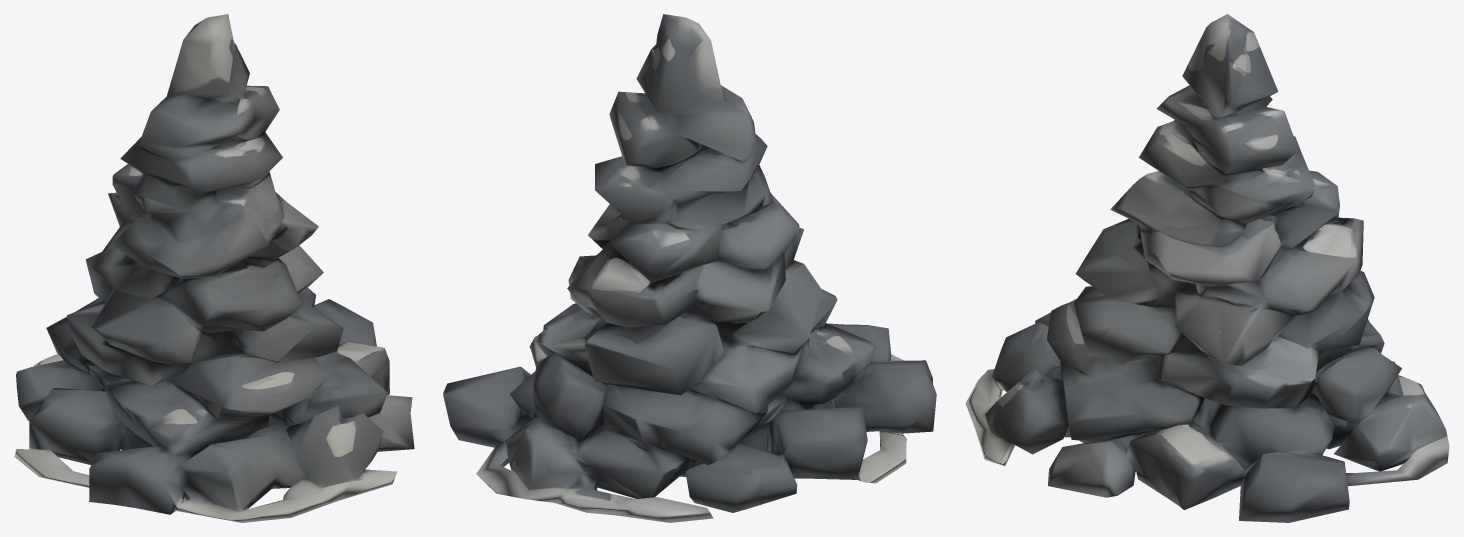
Rendered from summit_cairn.glb.
The picture shows the model from 3 angles, left to right: view 1: azimuth 30°, elevation 25°; view 2: azimuth 150°, elevation 25°; view 3: azimuth 270°, elevation 25°; orthographic projection. The views are drawn at different scales.
Visible parts, largest first — view 1: tripo_node_a2d87f27-5a98-4acb-9868-291912461eba; view 2: tripo_node_a2d87f27-5a98-4acb-9868-291912461eba; view 3: tripo_node_a2d87f27-5a98-4acb-9868-291912461eba.
Part boxes in pixels (bbox=[...]): tripo_node_a2d87f27-5a98-4acb-9868-291912461eba: bbox=[14, 14, 414, 522]; tripo_node_a2d87f27-5a98-4acb-9868-291912461eba: bbox=[443, 14, 936, 522]; tripo_node_a2d87f27-5a98-4acb-9868-291912461eba: bbox=[965, 14, 1449, 522].
Size of the model in its own units: 0.6039 by 0.6 by 0.6323.
1 material, 1 textured.
